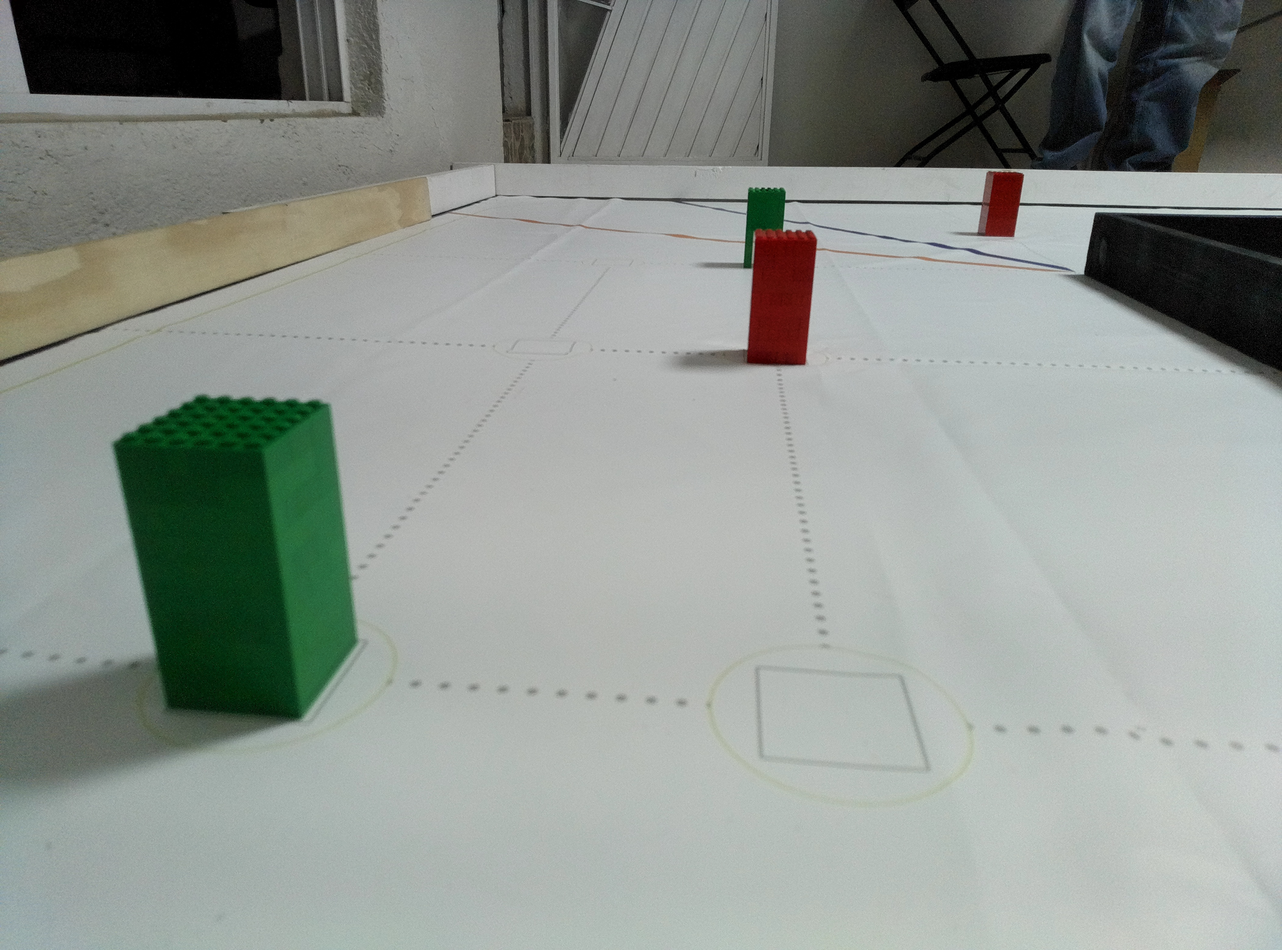greenbox: (108, 392, 363, 721), (747, 188, 787, 230), (742, 225, 755, 268)
redbox: (746, 228, 819, 367), (977, 169, 1024, 238)
